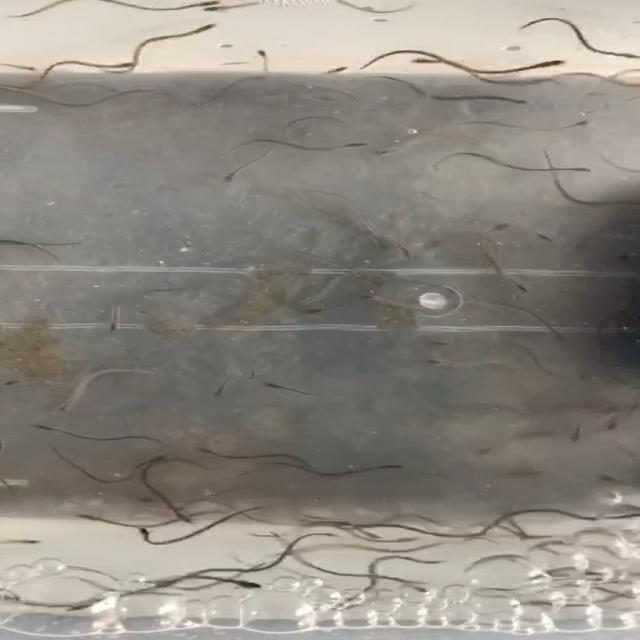active_glass_eel: (525, 51, 569, 80), (320, 131, 373, 155), (295, 302, 340, 326), (584, 45, 640, 64), (127, 449, 175, 469), (405, 52, 454, 71), (315, 58, 357, 80), (410, 353, 456, 373), (549, 326, 589, 349), (247, 371, 298, 389), (420, 451, 468, 469), (238, 47, 286, 64), (213, 580, 262, 596), (558, 112, 610, 127), (359, 234, 398, 254), (0, 591, 55, 605), (190, 0, 238, 16), (43, 401, 91, 417), (393, 242, 431, 262), (500, 279, 540, 298), (552, 158, 594, 176), (15, 422, 60, 438), (205, 383, 243, 401), (345, 558, 393, 572), (0, 373, 39, 390), (54, 602, 95, 618), (352, 290, 388, 308), (405, 580, 441, 598), (166, 510, 212, 524), (390, 534, 430, 550), (102, 317, 144, 332), (195, 20, 233, 36), (562, 428, 594, 446), (419, 473, 467, 485), (288, 291, 329, 305), (18, 530, 45, 550), (495, 95, 539, 107), (123, 524, 158, 539), (590, 469, 622, 485), (66, 508, 100, 523), (489, 474, 522, 489), (369, 146, 403, 160), (191, 443, 220, 458), (378, 461, 405, 476), (216, 172, 240, 188), (533, 230, 560, 244), (482, 221, 511, 232), (115, 67, 142, 68)
